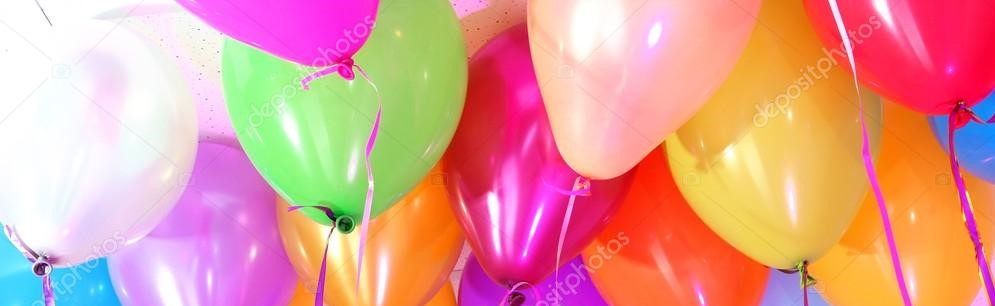Balloon: (664, 1, 865, 272), (226, 1, 469, 211), (1, 18, 198, 265), (524, 1, 765, 176), (807, 1, 995, 118)
